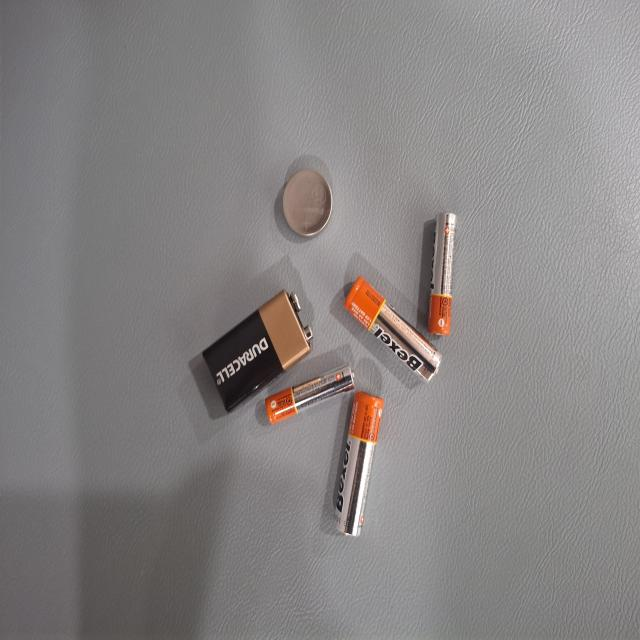9V: (216, 435, 311, 582)
AA: (206, 264, 288, 394), (295, 344, 401, 407)
AAA: (272, 380, 316, 498), (159, 246, 250, 284)
COIN: (125, 410, 178, 477)
